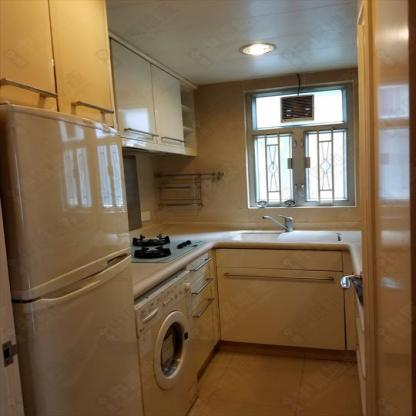Cupboard: (216, 249, 349, 349)
Exhaust Fan: (278, 93, 315, 122)
Faucet: (259, 214, 302, 231)
Fridge: (0, 102, 140, 414)
Sink: (230, 231, 342, 241)
Stove: (128, 232, 204, 262)
Washing Machine: (133, 271, 199, 413)
